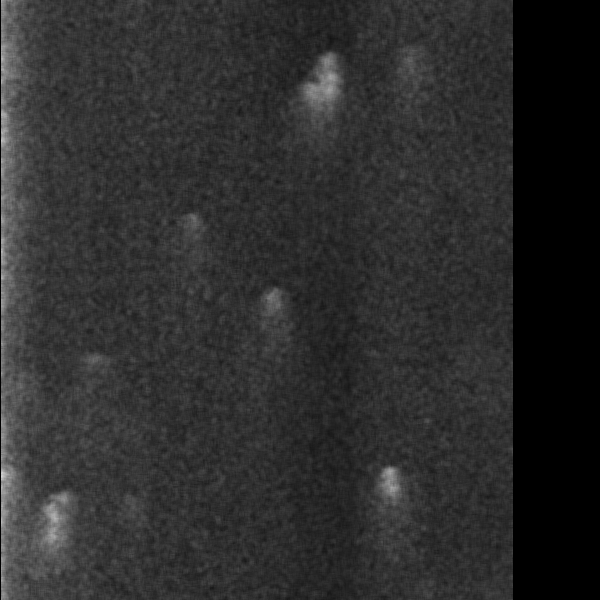spark: (53, 183, 84, 262)
